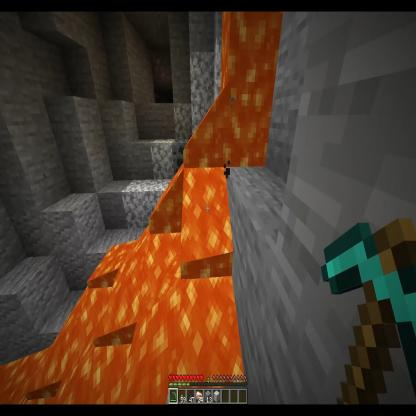coal ore: (171, 138, 193, 178)
iron ore: (150, 49, 168, 83)
